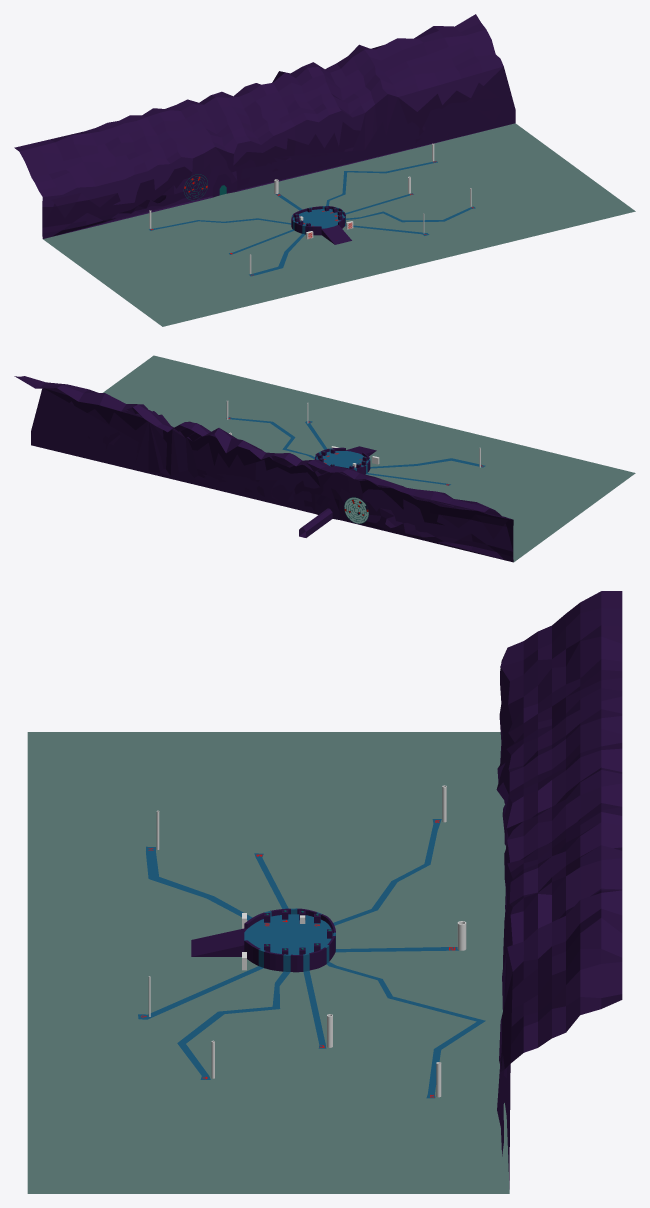
Rendered from LastDoor2.fbx.
3 renders of one model, top to bottom at view 1: azimuth 30°, elevation 25°; view 2: azimuth 150°, elevation 25°; view 3: azimuth 270°, elevation 25°, orthographic. The views are drawn at different scales.
Parts seen in each view (by area): view 1: Ground, Cube, RoadToPipe, Labyrinthe; view 2: Ground, Cube, RoadToPipe; view 3: Ground, Cube, RoadToPipe.
Boxes of the visible parts, box(x1,y1,x2,y2) form: Ground: box(43, 123, 635, 326); Cube: box(14, 14, 515, 238); RoadToPipe: box(149, 161, 475, 276); Labyrinthe: box(183, 174, 207, 200); Ground: box(103, 355, 635, 562); Cube: box(14, 376, 513, 562); RoadToPipe: box(226, 416, 485, 485); Ground: box(27, 732, 509, 1193); Cube: box(496, 591, 622, 1189); RoadToPipe: box(138, 819, 485, 1098).
Bounding box in the file's own units: 15976 × 2954 × 8691.
